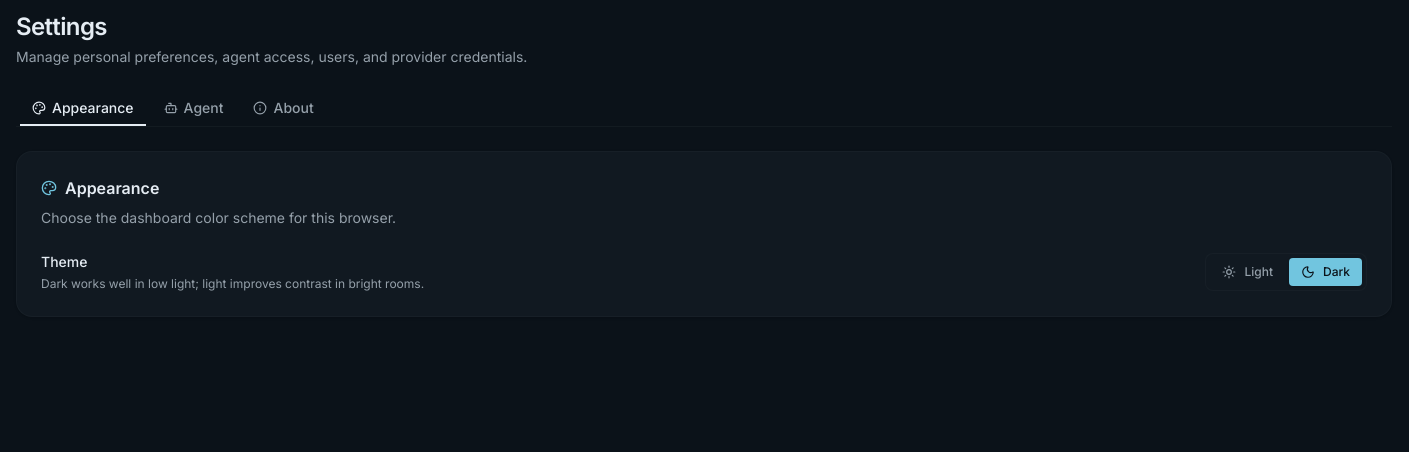
Test case: Settings page › shows the air provider as not-configured when omitted from health
Click the tab with test id "settings-tab-about" at (284, 108), box [240,94,327,122]
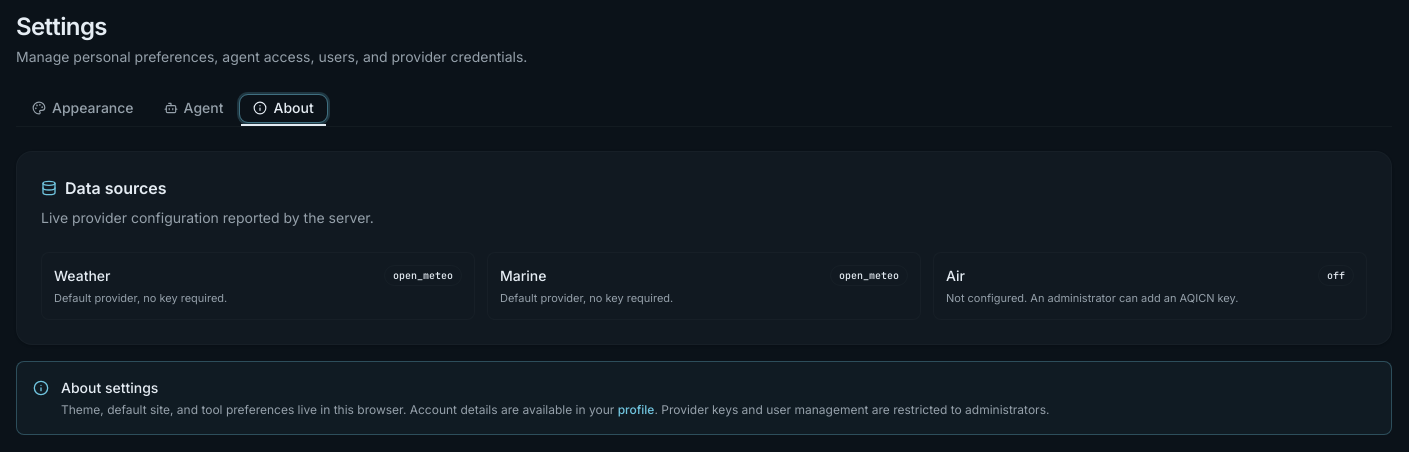
Expected: the element with test id "settings-providers" is shown, [16,151,1392,344]
Expected: the element with test id "provider-status-air" shows "Not configured", [946,291,1238,305]
